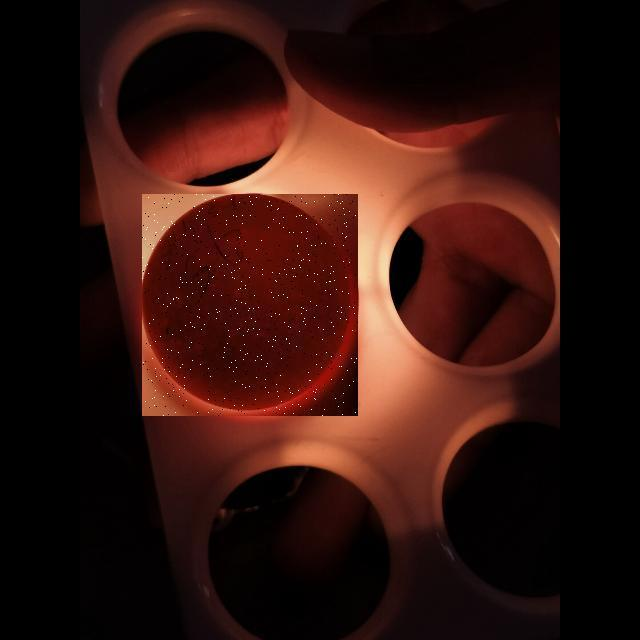A - Good: (140, 190, 353, 403)
